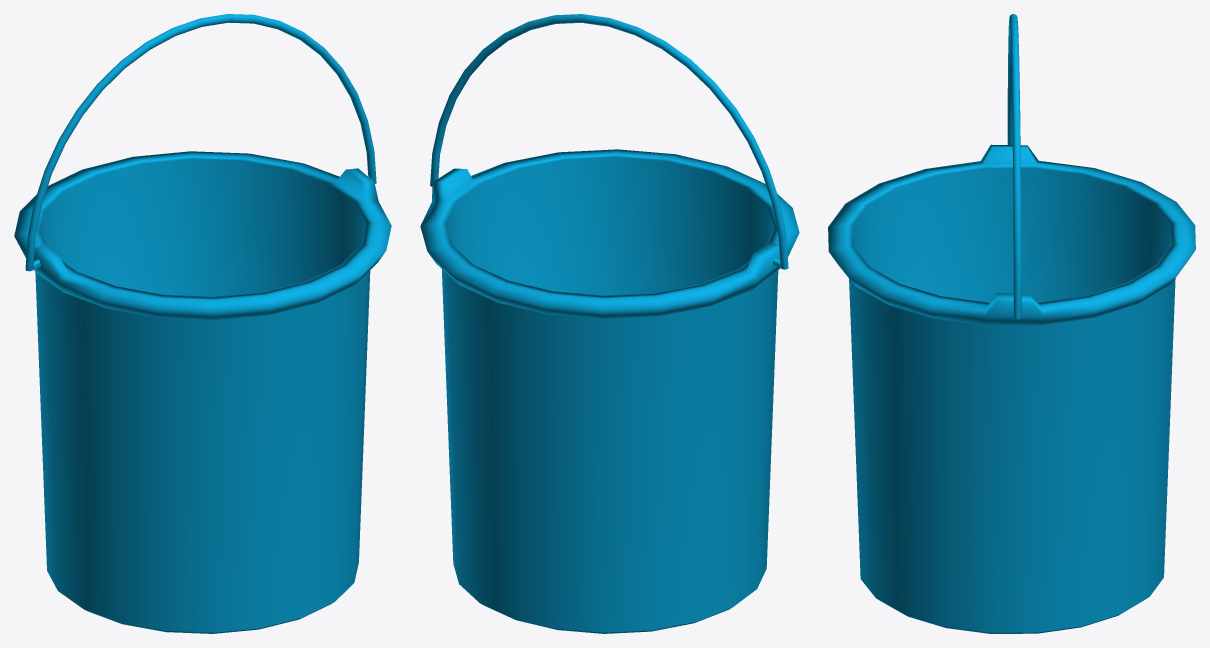
The model's file is Bucket_01_Lod0.fbx.
3 renders of one model, left to right at view 1: azimuth 30°, elevation 25°; view 2: azimuth 150°, elevation 25°; view 3: azimuth 270°, elevation 25°, orthographic. The views are drawn at different scales.
Parts seen in each view (by area): view 1: Bucket_01_Lod0; view 2: Bucket_01_Lod0; view 3: Bucket_01_Lod0.
Boxes of the visible parts, x1,y1,x2,y2 form: Bucket_01_Lod0: (14,14,391,633); Bucket_01_Lod0: (420,14,799,633); Bucket_01_Lod0: (828,14,1195,633).
Size of the model in its own units: 34.53 by 51.46 by 31.7.
